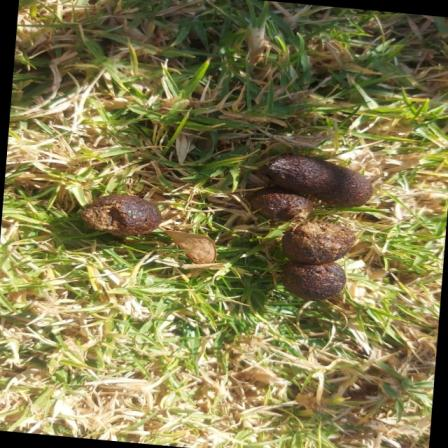dog-poop: (248, 146, 372, 312), (79, 181, 173, 249)
